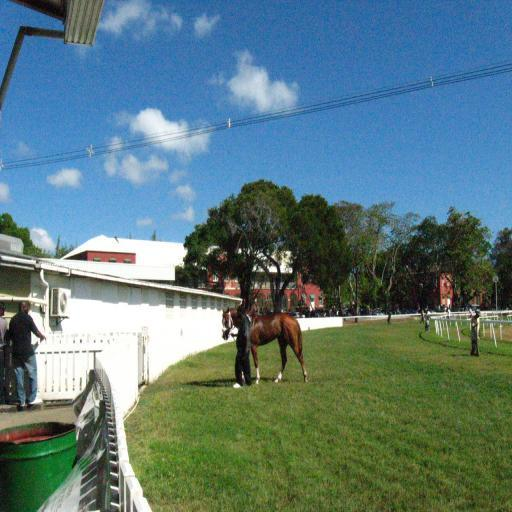horse: (221, 308, 304, 380)
